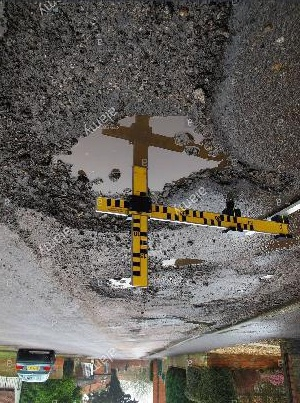pothole: (0, 70, 236, 238), (87, 274, 156, 306), (157, 256, 211, 273)
